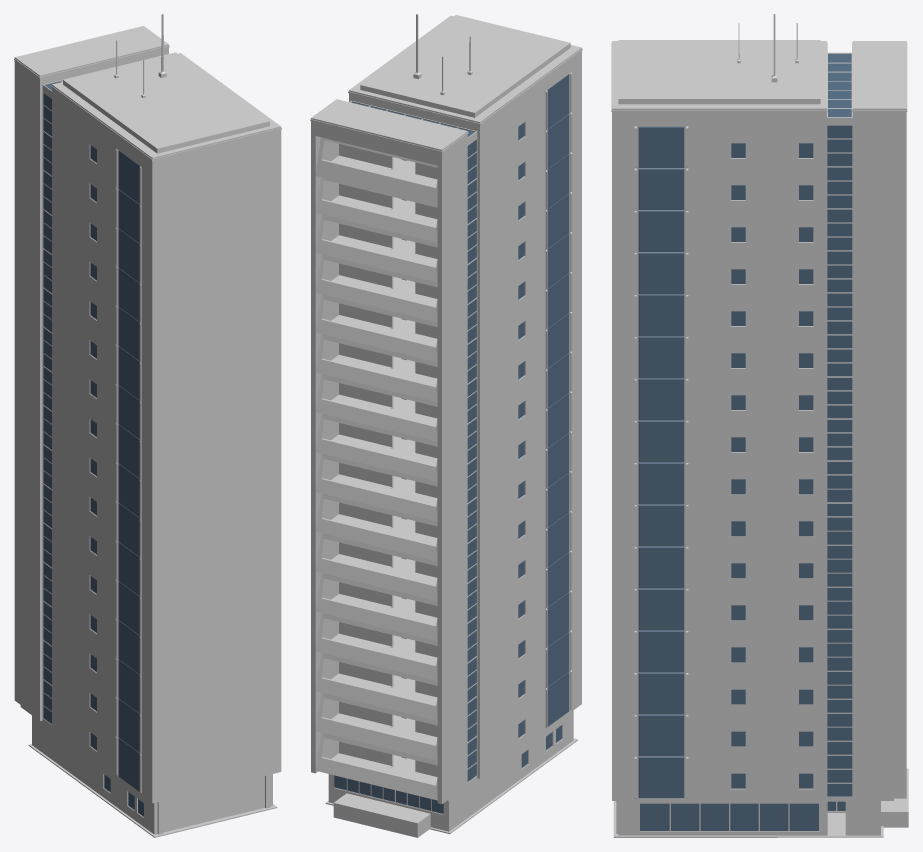
The model's file is res_07.glb.
The picture shows the model from 3 angles, left to right: view 1: azimuth 30°, elevation 25°; view 2: azimuth 150°, elevation 25°; view 3: azimuth 270°, elevation 25°; orthographic projection. The views are drawn at different scales.
Parts seen in each view (by area): view 1: Residential Buildings 007; view 2: Residential Buildings 007; view 3: Residential Buildings 007.
Part boxes in pixels (<box>): Residential Buildings 007: <box>14,14,281,837</box>; Residential Buildings 007: <box>310,14,582,837</box>; Residential Buildings 007: <box>611,14,908,837</box>.
Size of the model in its own units: 12.6 by 68.79 by 23.09.
